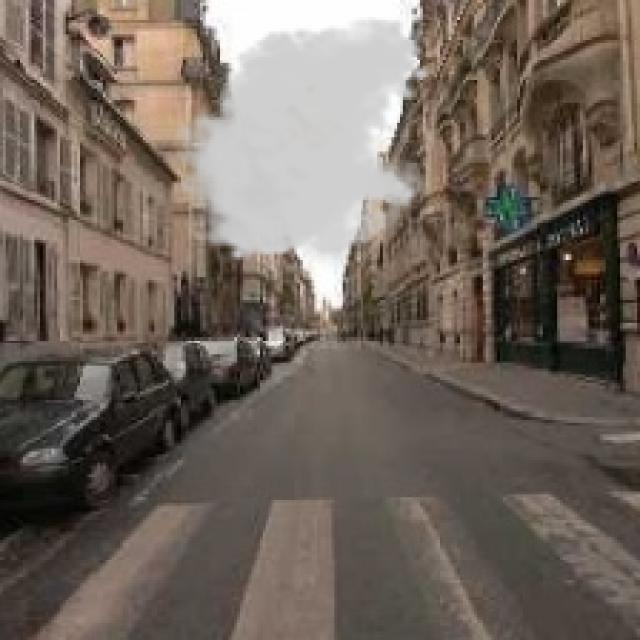smoke: (166, 14, 431, 277)
